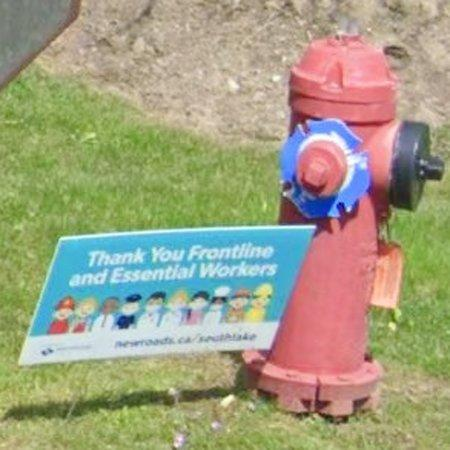a fire hydrant: (245, 33, 444, 418)
